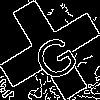G: (25, 25, 82, 85)
